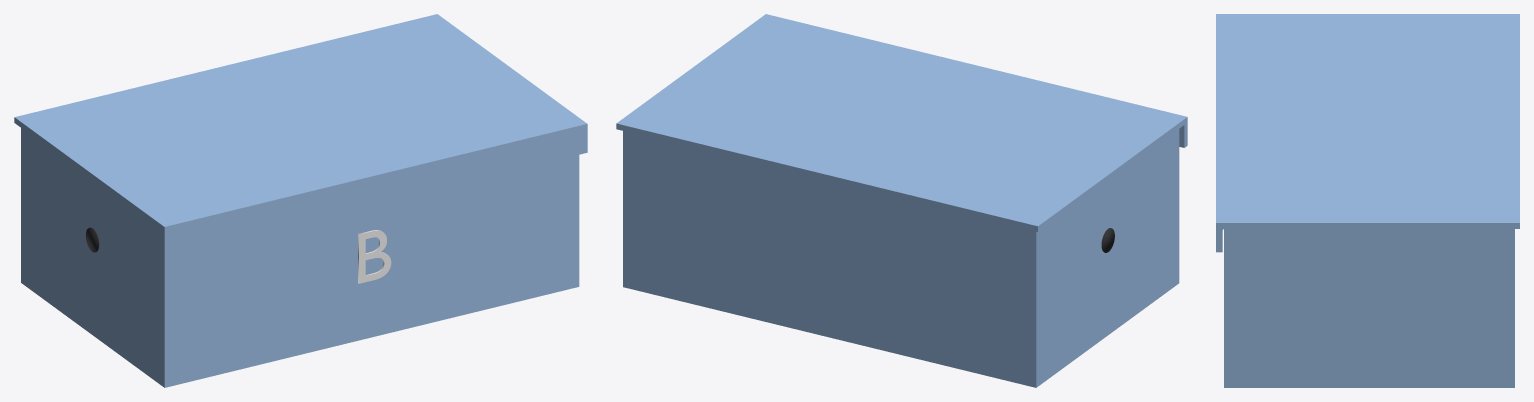
Rendered from shoe_box_lit.glb.
3 renders of one model, left to right at view 1: azimuth 30°, elevation 25°; view 2: azimuth 150°, elevation 25°; view 3: azimuth 270°, elevation 25°, orthographic.
Parts seen in each view (by area): view 1: sb_lid, sb_wall_s, sb_wall_w, sb_lid_lip, sb_floor, sb_label, sb_wall_e, sb_wall_n; view 2: sb_lid, sb_wall_n, sb_wall_w, sb_floor, sb_lid_lip, sb_wall_e; view 3: sb_lid, sb_wall_e, sb_floor, sb_lid_lip, sb_wall_s, sb_wall_n.
Boxes of the visible parts, x1=… form: sb_lid: x1=14, y1=14, x2=584, y2=231; sb_wall_s: x1=161, y1=156, x2=573, y2=387; sb_wall_w: x1=21, y1=130, x2=170, y2=387; sb_lid_lip: x1=161, y1=121, x2=587, y2=255; sb_floor: x1=21, y1=277, x2=578, y2=387; sb_label: x1=358, y1=230, x2=391, y2=283; sb_wall_e: x1=574, y1=155, x2=579, y2=287; sb_wall_n: x1=21, y1=128, x2=24, y2=284; sb_lid: x1=616, y1=15, x2=1185, y2=231; sb_wall_n: x1=628, y1=132, x2=1038, y2=385; sb_wall_w: x1=1030, y1=129, x2=1178, y2=387; sb_floor: x1=623, y1=278, x2=1178, y2=387; sb_lid_lip: x1=764, y1=14, x2=1187, y2=147; sb_wall_e: x1=623, y1=131, x2=628, y2=285; sb_lid: x1=1219, y1=14, x2=1519, y2=228; sb_wall_e: x1=1224, y1=229, x2=1514, y2=387; sb_floor: x1=1224, y1=382, x2=1514, y2=387; sb_lid_lip: x1=1216, y1=14, x2=1222, y2=252; sb_wall_s: x1=1224, y1=229, x2=1230, y2=387; sb_wall_n: x1=1508, y1=229, x2=1514, y2=387.
Bounding box in the file's own units: 0.306 × 0.114 × 0.188.
